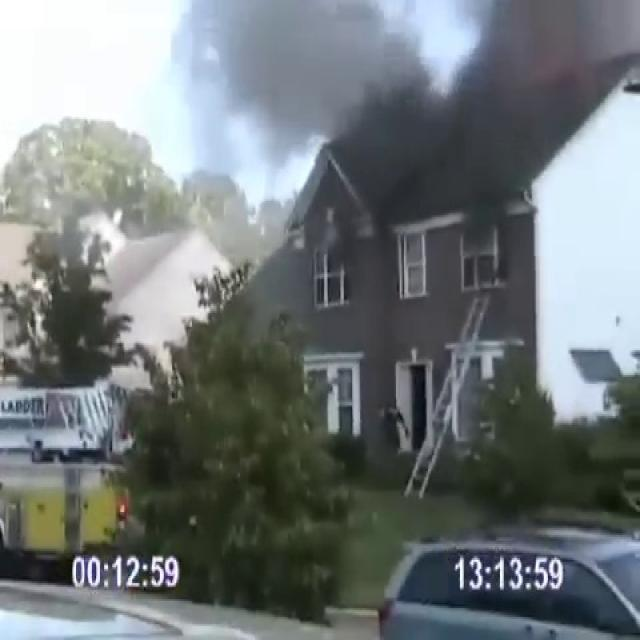Smoke: (172, 0, 640, 260)
